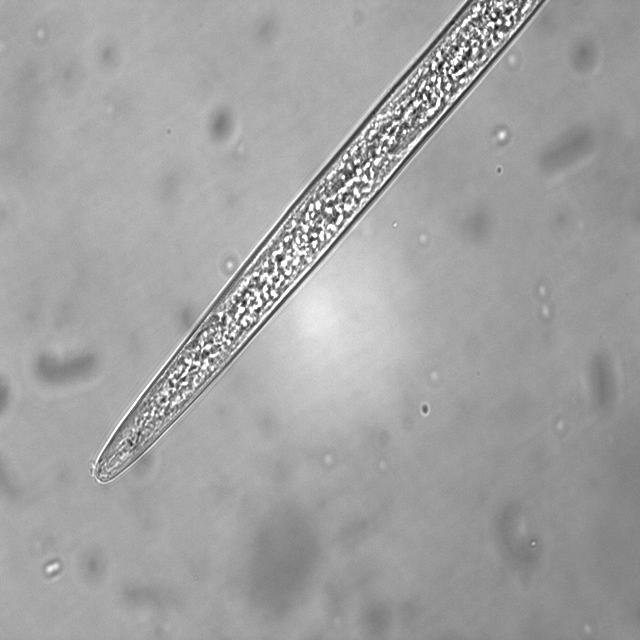Meloidogyne: (84, 0, 561, 488)
